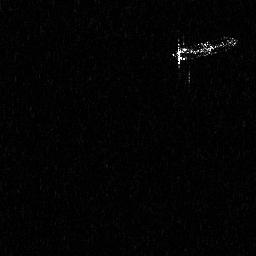ship: (170, 31, 238, 88)
